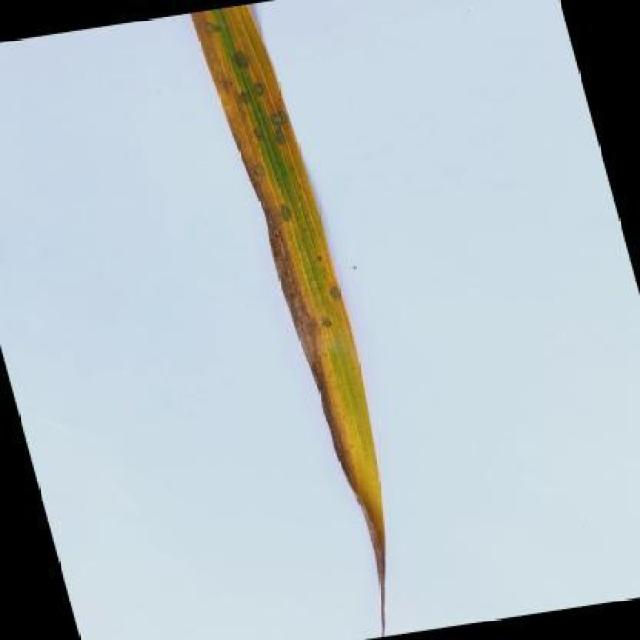Rice False Smut: (192, 6, 385, 633)
